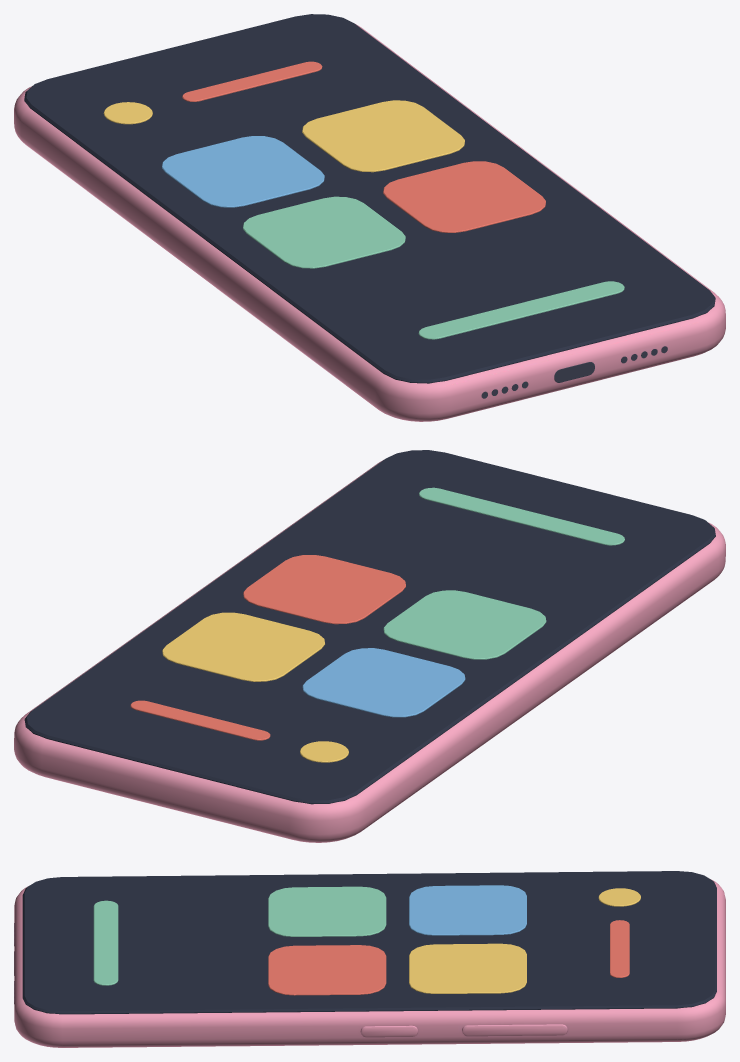
File: Smartphone.fbx
3 renders of one model, top to bottom at view 1: azimuth 30°, elevation 25°; view 2: azimuth 150°, elevation 25°; view 3: azimuth 270°, elevation 25°, orthographic. The views are drawn at different scales.
Visible parts, largest first — view 1: smartphone_glass, smartphone_body; view 2: smartphone_glass, smartphone_body; view 3: smartphone_glass, smartphone_body.
Boxes of the visible parts, bbox=[...] form: smartphone_glass: bbox=[24, 14, 715, 383]; smartphone_body: bbox=[14, 24, 725, 421]; smartphone_glass: bbox=[24, 450, 715, 804]; smartphone_body: bbox=[14, 460, 725, 842]; smartphone_glass: bbox=[22, 871, 716, 1014]; smartphone_body: bbox=[14, 879, 725, 1047].
Size of the model in its own units: 0.0719 by 0.0103 by 0.1476.
Materials: 6 (1 with a texture image).
